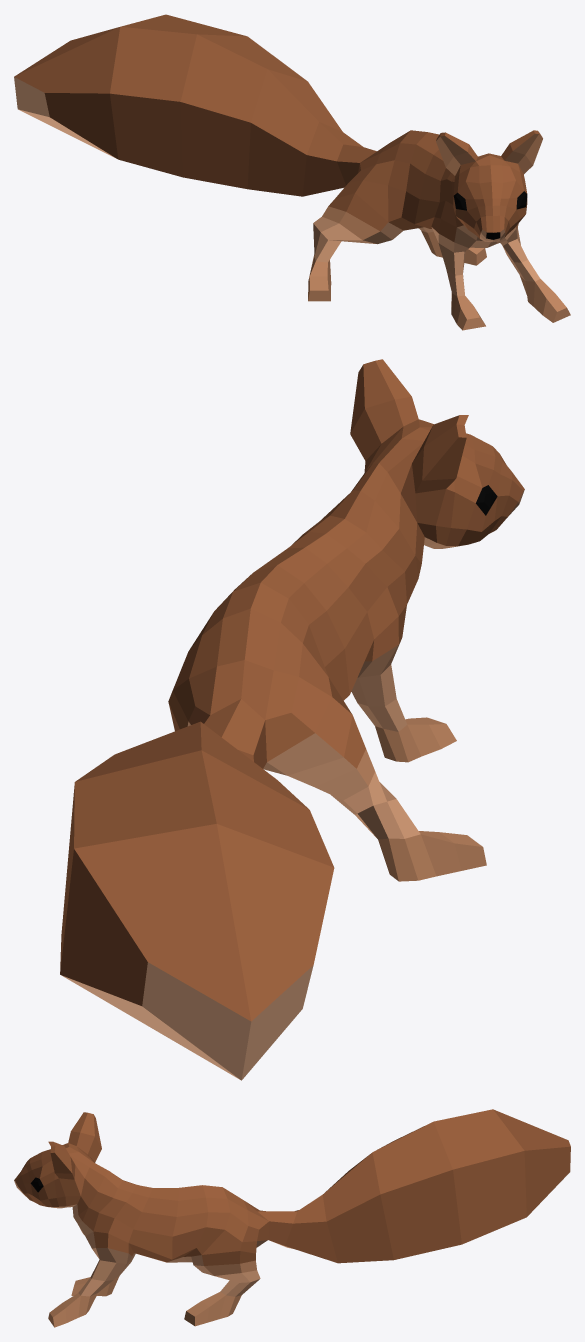
Rendered from squirrel.glb.
3 renders of one model, top to bottom at view 1: azimuth 30°, elevation 25°; view 2: azimuth 150°, elevation 25°; view 3: azimuth 270°, elevation 25°, orthographic. The views are drawn at different scales.
Parts seen in each view (by area): view 1: squirell; view 2: squirell; view 3: squirell.
Part boxes in pixels (<box>): squirell: <box>14,14,570,330</box>; squirell: <box>60,359,524,1080</box>; squirell: <box>14,1109,570,1327</box>.
Size of the model in its own units: 0.3339 by 0.2345 by 0.6967.
Materials: 1 (1 with a texture image).
